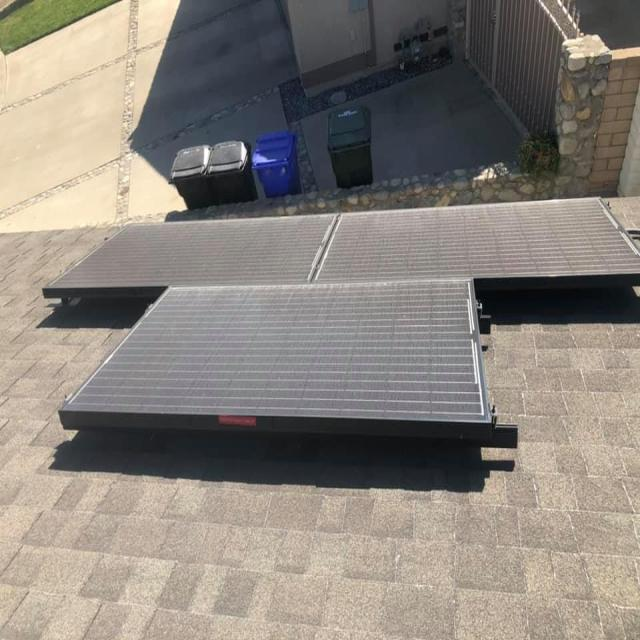dust-solar-panel: (48, 196, 640, 423)
